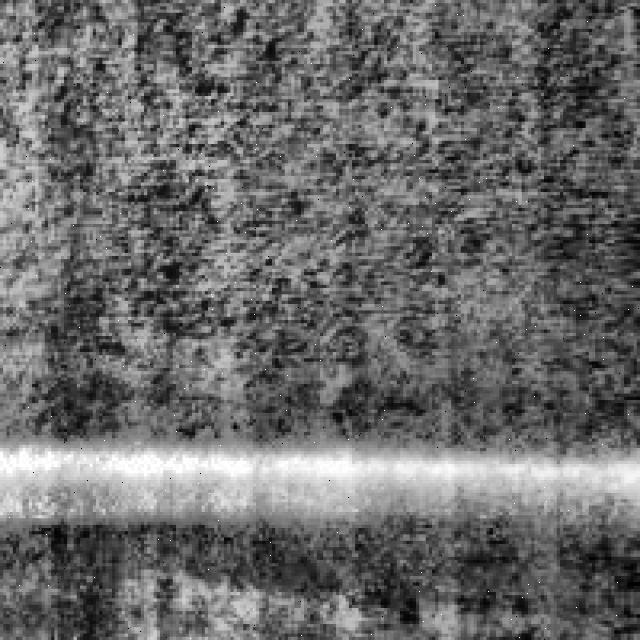Inclusion: (6, 432, 640, 518)
